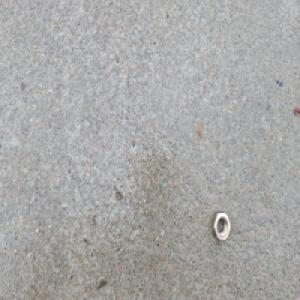Nut: (212, 209, 233, 243)
